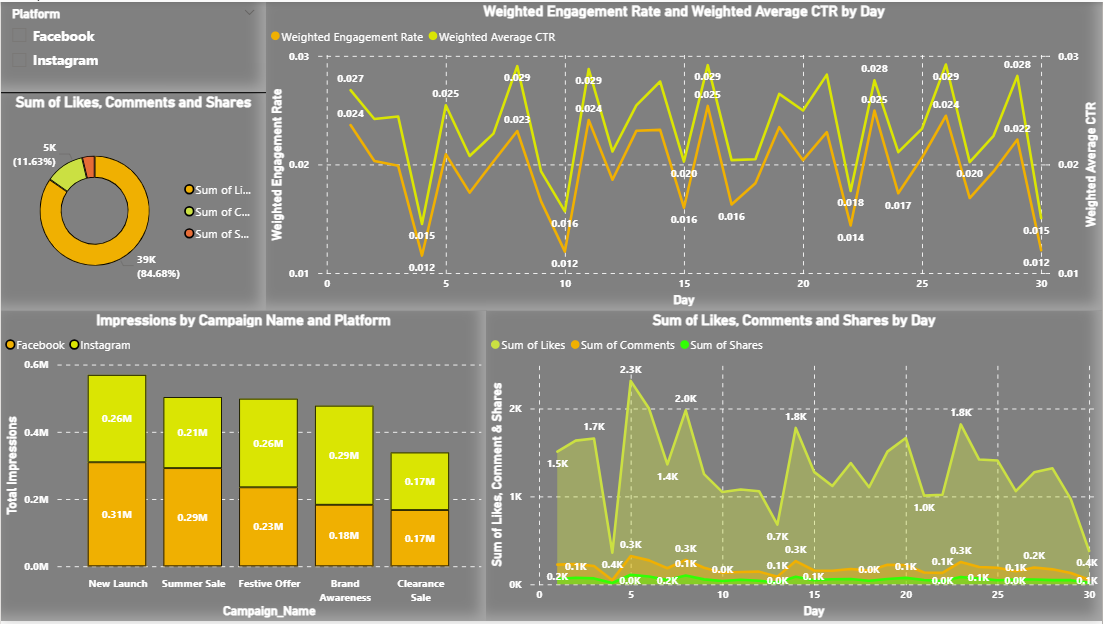

What the dashboard file says about the page in this screenshot:
{"tool":"powerbi","page":{"name":"Page 2","canvas":[1280,720],"ordinal":1},"visuals":[{"type":"lineChart","fields":{"Y":["Social_Media_Campaign_Data.Weighted Engagement Rate"],"Y2":["Social_Media_Campaign_Data.Weighted Average CTR"],"Category":["Social_Media_Campaign_Data.Date.Variation.Date Hierarchy.Month","Social_Media_Campaign_Data.Date.Variation.Date Hierarchy.Day"]},"box":[308,0,972,358.9],"z":1},{"type":"slicer","fields":{"Values":["Social_Media_Campaign_Data.Platform"]},"box":[0,0,308,104.6],"z":2},{"type":"donutChart","title":"Sum of Likes, Comments and Shares","fields":{"Y":["Sum(Social_Media_Campaign_Data.Likes)","Sum(Social_Media_Campaign_Data.Comments)","Sum(Social_Media_Campaign_Data.Shares)"]},"box":[0,106.1,308,254.3],"z":3},{"type":"columnChart","title":"Impressions by Campaign Name and Platform","fields":{"Y":["Social_Media_Campaign_Data.Total Impressions"],"Category":["Social_Media_Campaign_Data.Campaign_Name"],"Series":["Social_Media_Campaign_Data.Platform"]},"box":[0,358.9,563.7,361.8],"z":4},{"type":"areaChart","title":"Sum of Likes, Comments and Shares by Day","fields":{"Category":["Social_Media_Campaign_Data.Date.Variation.Date Hierarchy.Month","Social_Media_Campaign_Data.Date.Variation.Date Hierarchy.Day"],"Y":["Sum(Social_Media_Campaign_Data.Likes)","Sum(Social_Media_Campaign_Data.Comments)","Sum(Social_Media_Campaign_Data.Shares)"]},"box":[563.7,358.9,716.3,361.8],"z":5}]}

Visuals, with their boxes in screenshot pixels (x1, y1, x2, y2), scaled from the page's 1280x720 canvas onto the 1103x624 screenshot:
lineChart - Social_Media_Campaign_Data.Weighted Engagement Rate x Social_Media_Campaign_Data.Weighted Average CTR: region(265, 0, 1102, 311)
slicer - Social_Media_Campaign_Data.Platform: region(0, 0, 265, 91)
"Sum of Likes, Comments and Shares" donutChart: region(0, 92, 265, 312)
"Impressions by Campaign Name and Platform" columnChart: region(0, 311, 486, 623)
"Sum of Likes, Comments and Shares by Day" areaChart: region(486, 311, 1102, 623)
